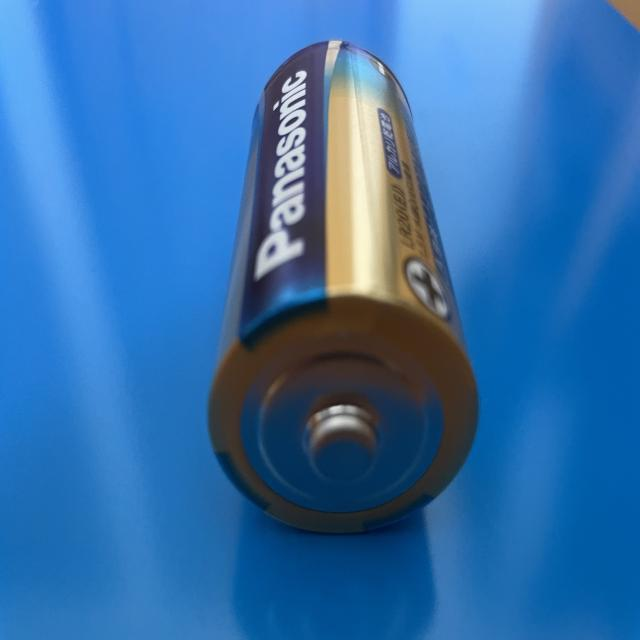hazardous waste: (202, 39, 480, 538)
